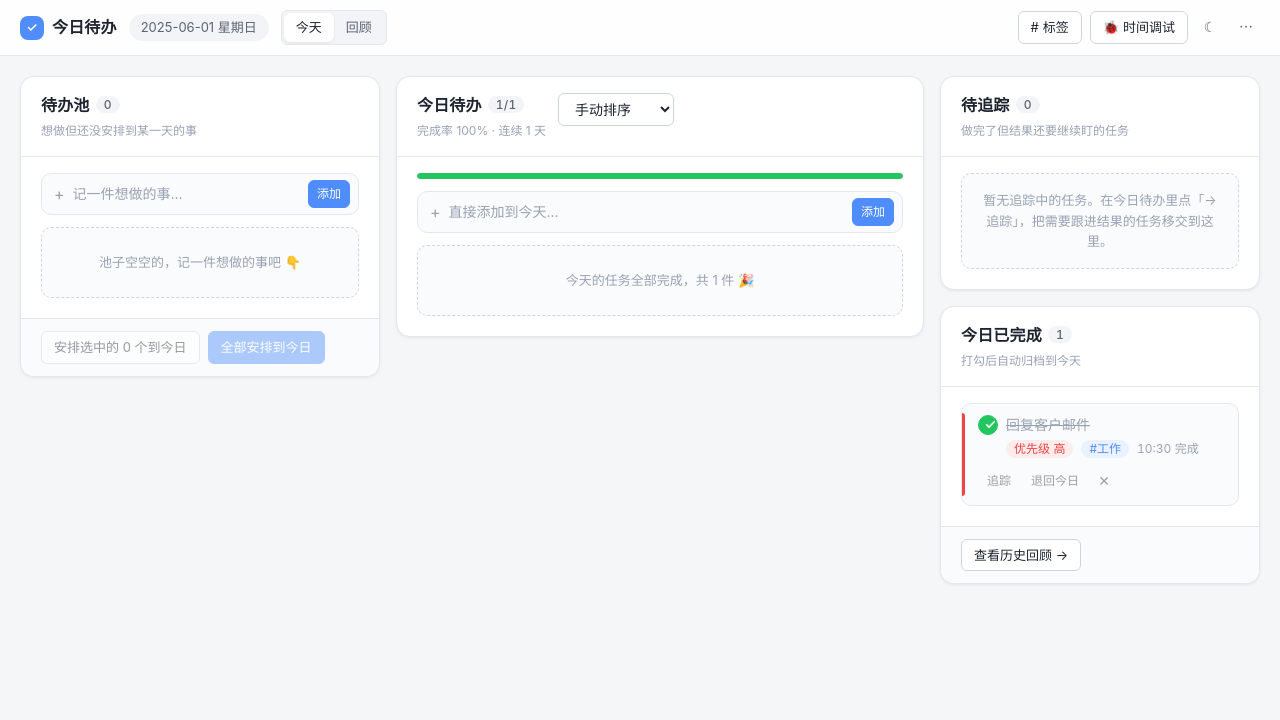
Test: App 真实渲染（jsdom） › 导出：从顶栏菜单打开对话框，按日期列出完成记录
Click the button named "数据管理". click: (1246, 28)
box: [1232, 14, 1260, 42]
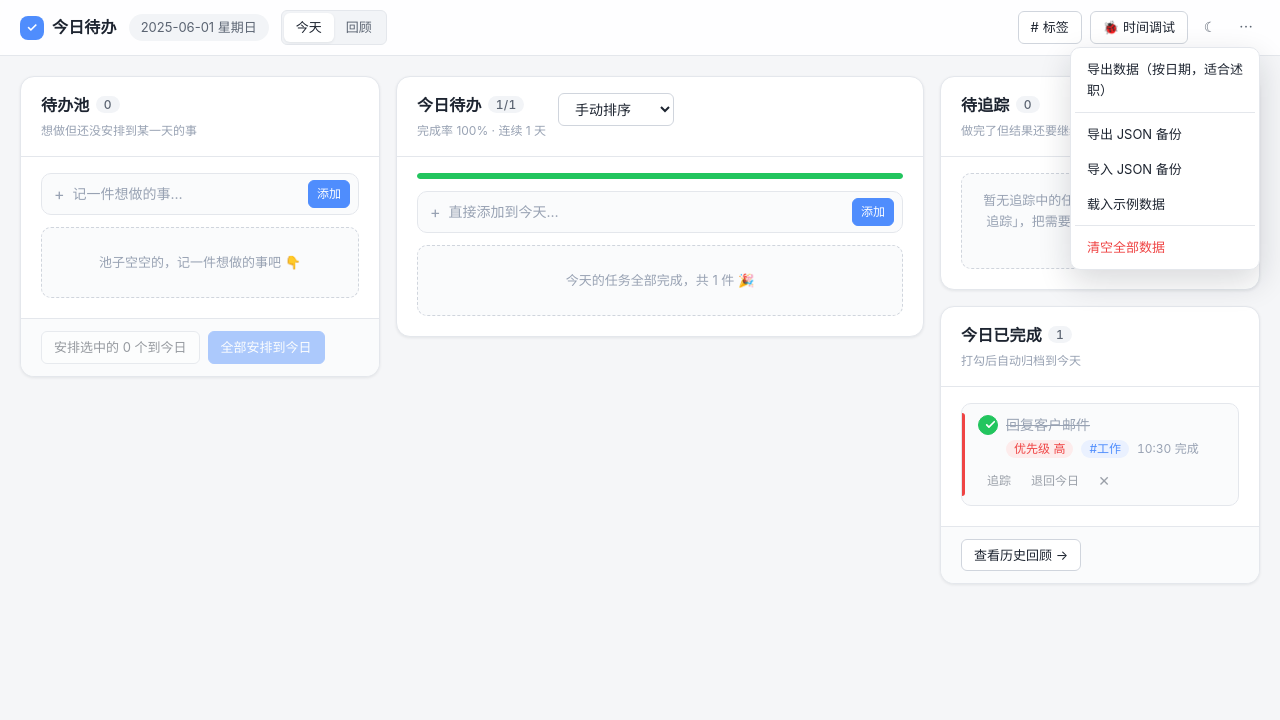
Click the menu item "导出数据（按日期，适合述职）". click: (1165, 80)
box: [1075, 52, 1255, 108]
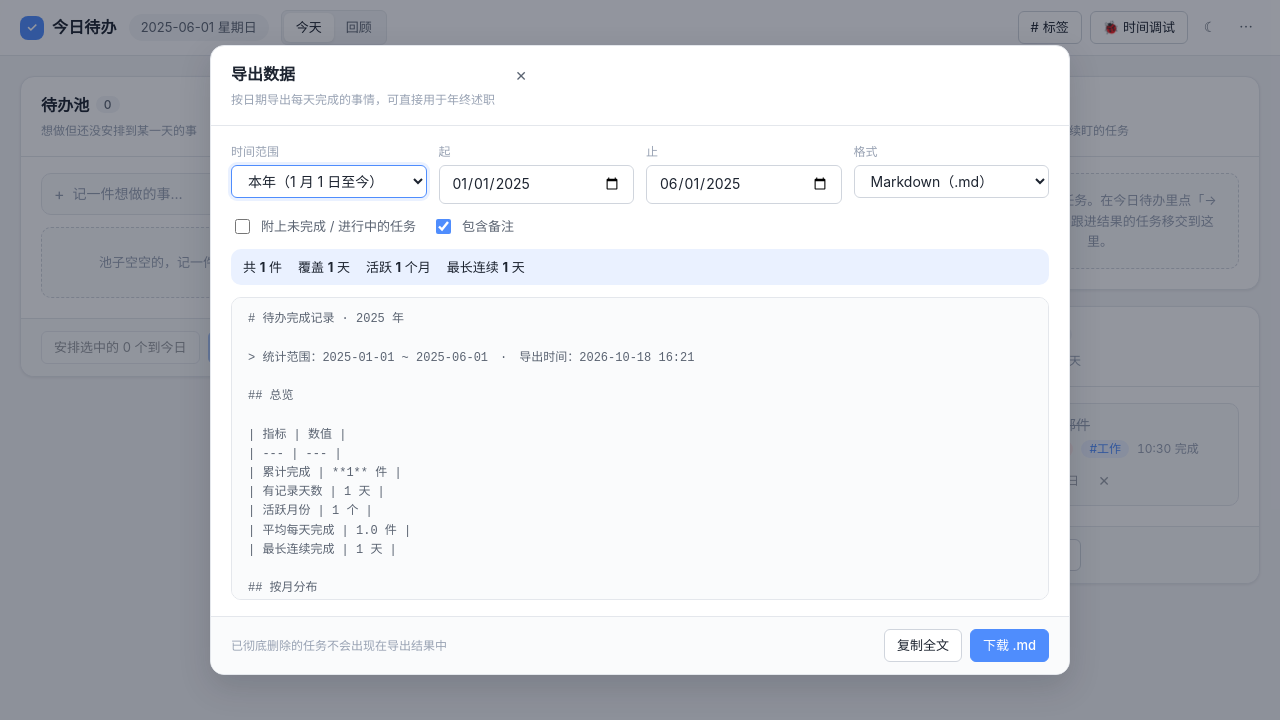
Expected: the text "共 1 件" is shown, [243, 257, 282, 278]
